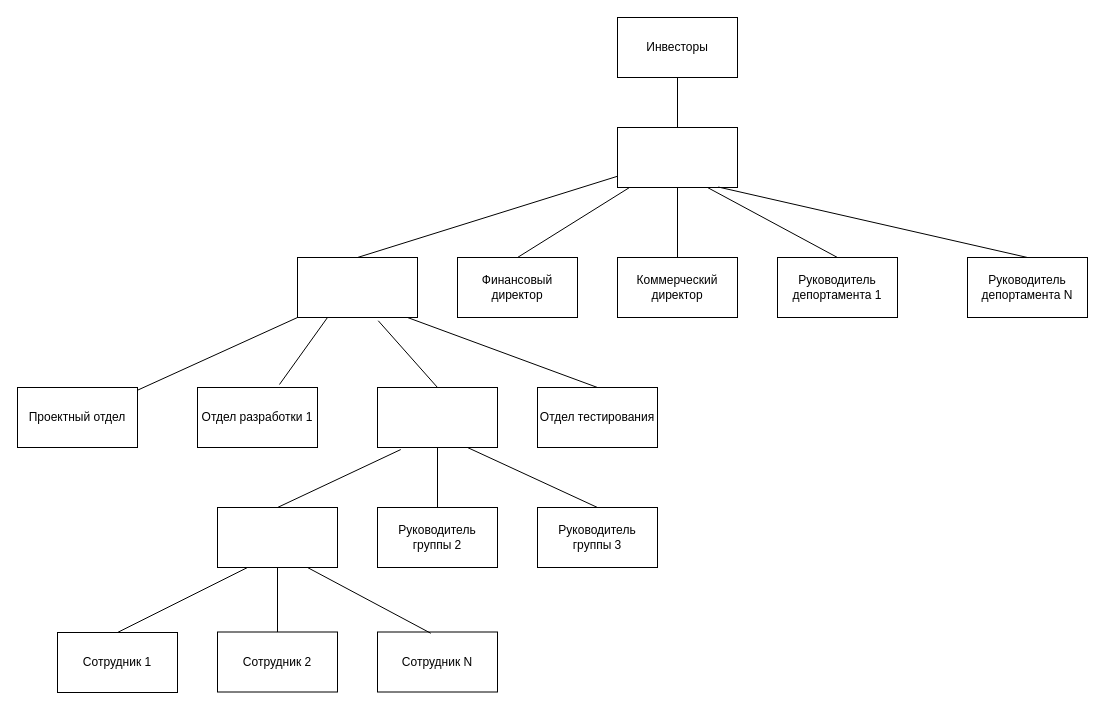
The diagram is 1105 pixels wide and 710 high, and some of its shapes have lost their labels. Each missing label, with the centre of its shape:
Генеральный директор: the point at 677,157
Отдел разработки N: the point at 437,417
Руководитель группы 1: the point at 277,537
Технический директор: the point at 357,287
